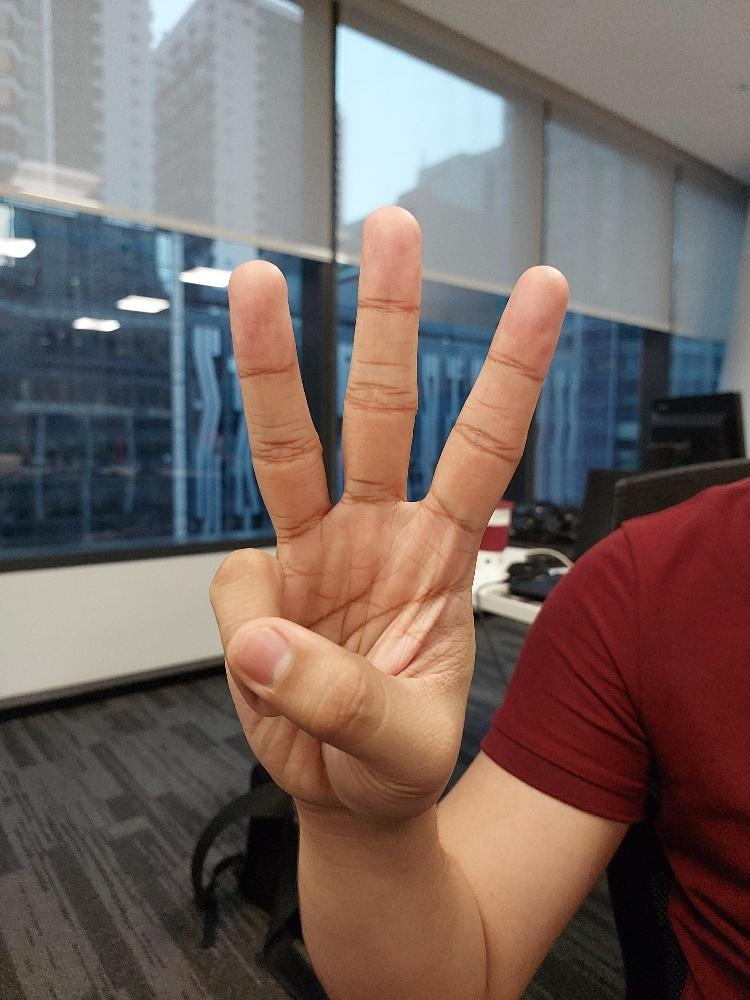w: (205, 201, 570, 820)
